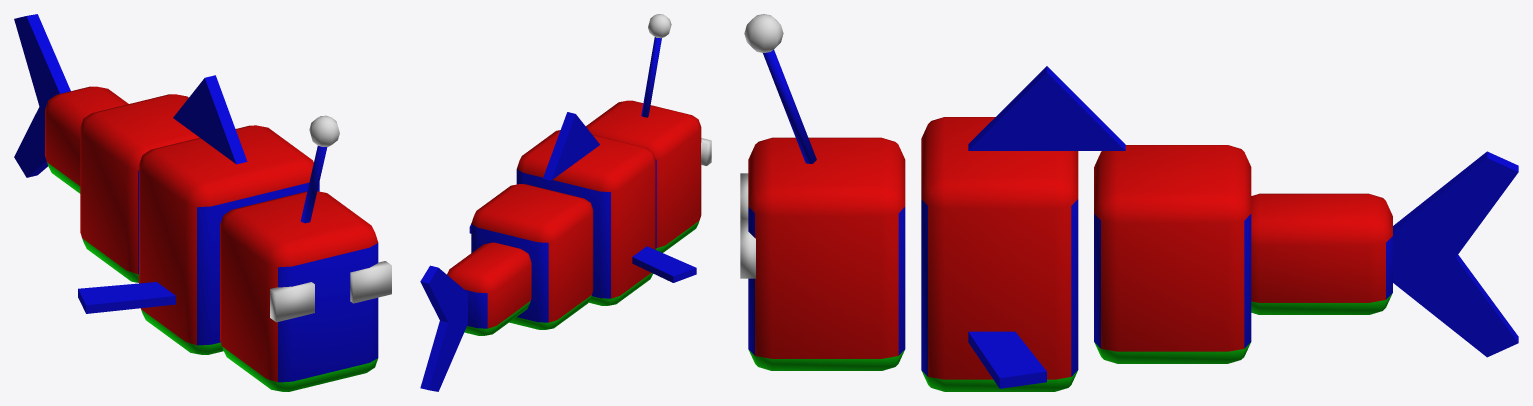
Rendered from fish_robo.glb.
The picture shows the model from 3 angles, left to right: view 1: azimuth 30°, elevation 25°; view 2: azimuth 150°, elevation 25°; view 3: azimuth 270°, elevation 25°; orthographic projection. The views are drawn at different scales.
Visible parts, largest first — view 1: Body, Glow; view 2: Body, Glow; view 3: Body, Glow.
Part boxes in pixels (bbox=[...]): Body: bbox=[14, 14, 378, 391]; Glow: bbox=[270, 115, 391, 322]; Body: bbox=[420, 37, 701, 391]; Glow: bbox=[648, 14, 711, 165]; Body: bbox=[748, 49, 1518, 391]; Glow: bbox=[740, 14, 783, 278].
Size of the model in its own units: 0.52 by 0.485 by 0.99.
